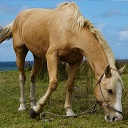caballo: (0, 3, 122, 121)
